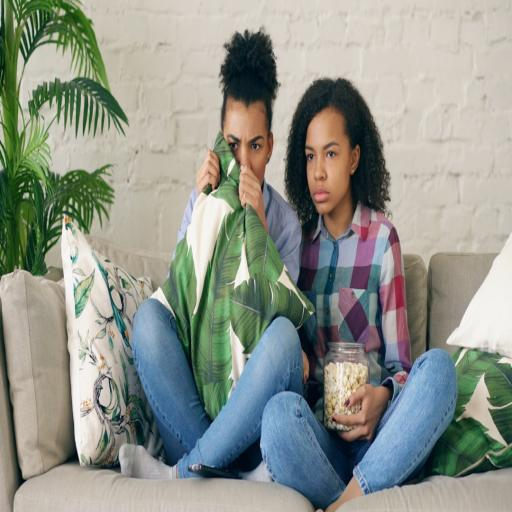face: (220, 124, 270, 194), (305, 136, 347, 212)
